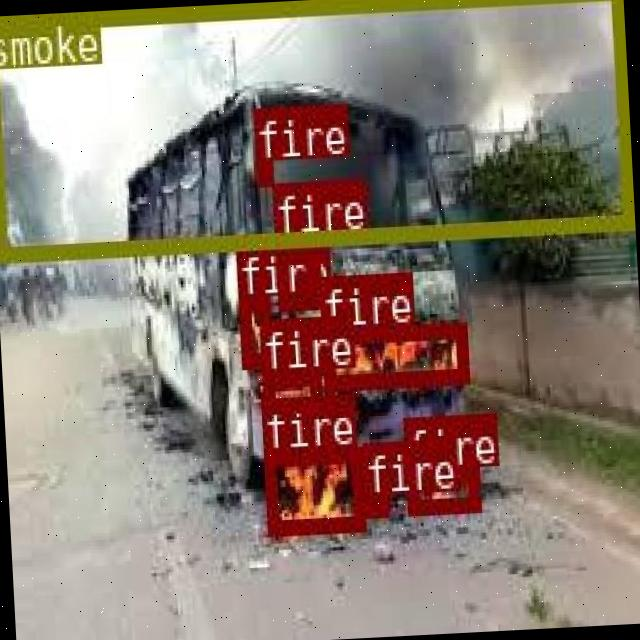fire: (321, 321, 466, 386), (262, 446, 363, 534), (404, 466, 479, 513), (272, 231, 318, 307), (260, 370, 320, 411), (237, 295, 270, 367), (254, 158, 272, 182), (364, 494, 386, 513)
smoke: (0, 0, 630, 258)
